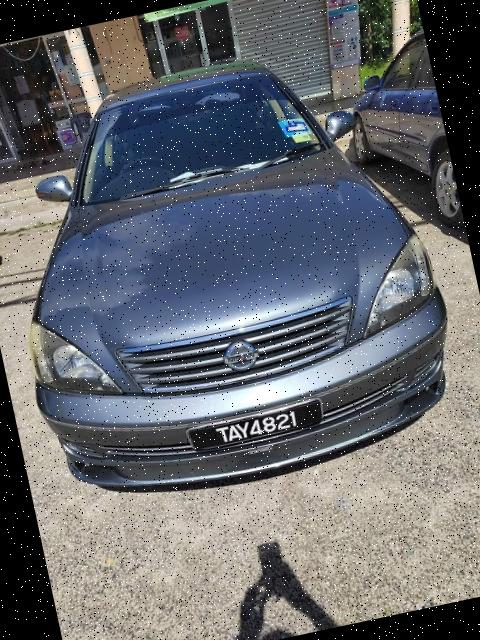License_Plate: (193, 400, 314, 457)
car: (1, 11, 471, 518)
